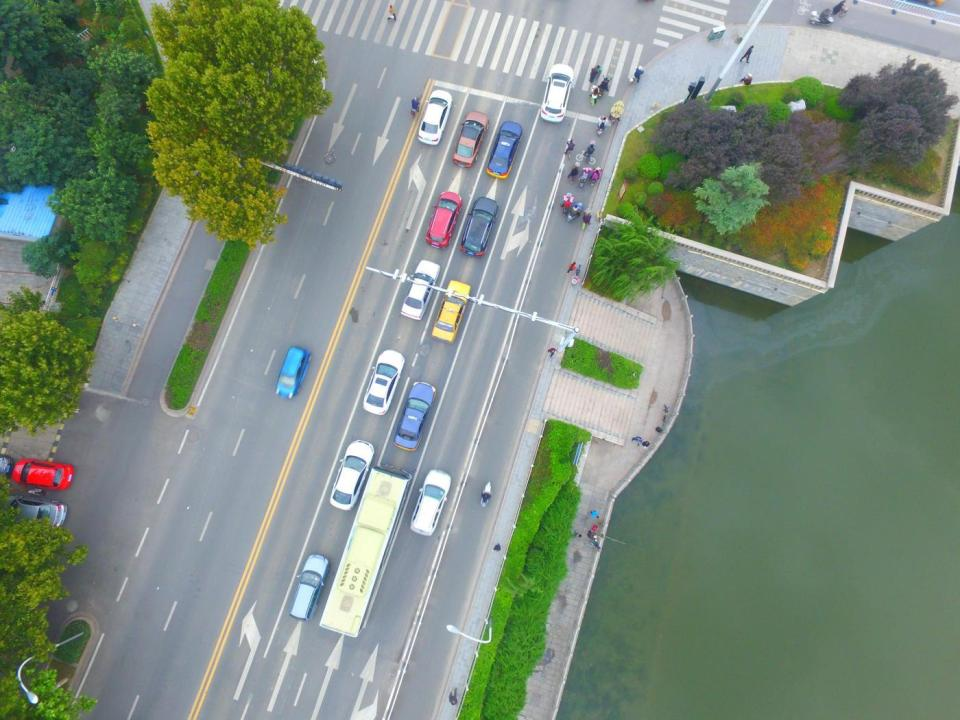car: (327, 438, 380, 511), (410, 467, 452, 538), (396, 378, 436, 452), (2, 492, 69, 534), (289, 551, 327, 623), (483, 121, 529, 180), (361, 350, 402, 415), (461, 195, 502, 258), (431, 281, 474, 341), (399, 261, 442, 320), (421, 192, 462, 250), (536, 63, 574, 124), (13, 453, 73, 490), (274, 346, 314, 398), (451, 112, 489, 166), (418, 91, 453, 144)
